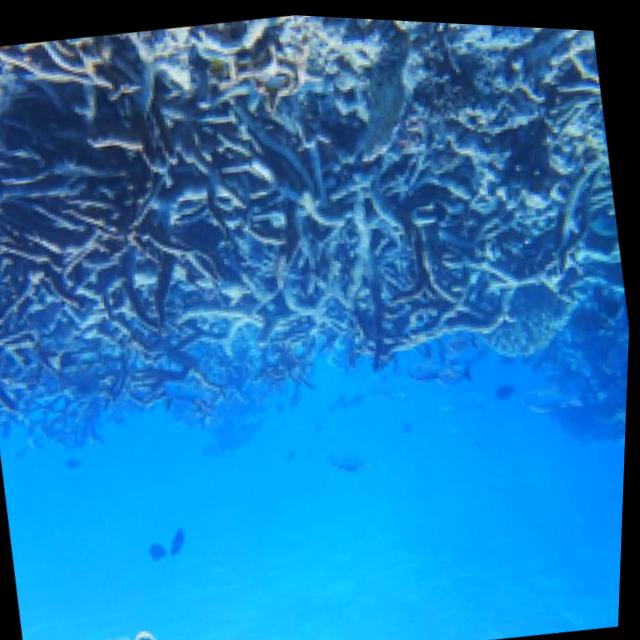Dead Coral: (296, 19, 637, 403), (0, 14, 255, 363)
